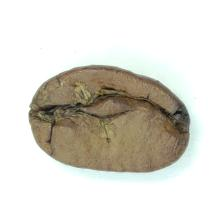NG: (32, 80, 183, 166)
